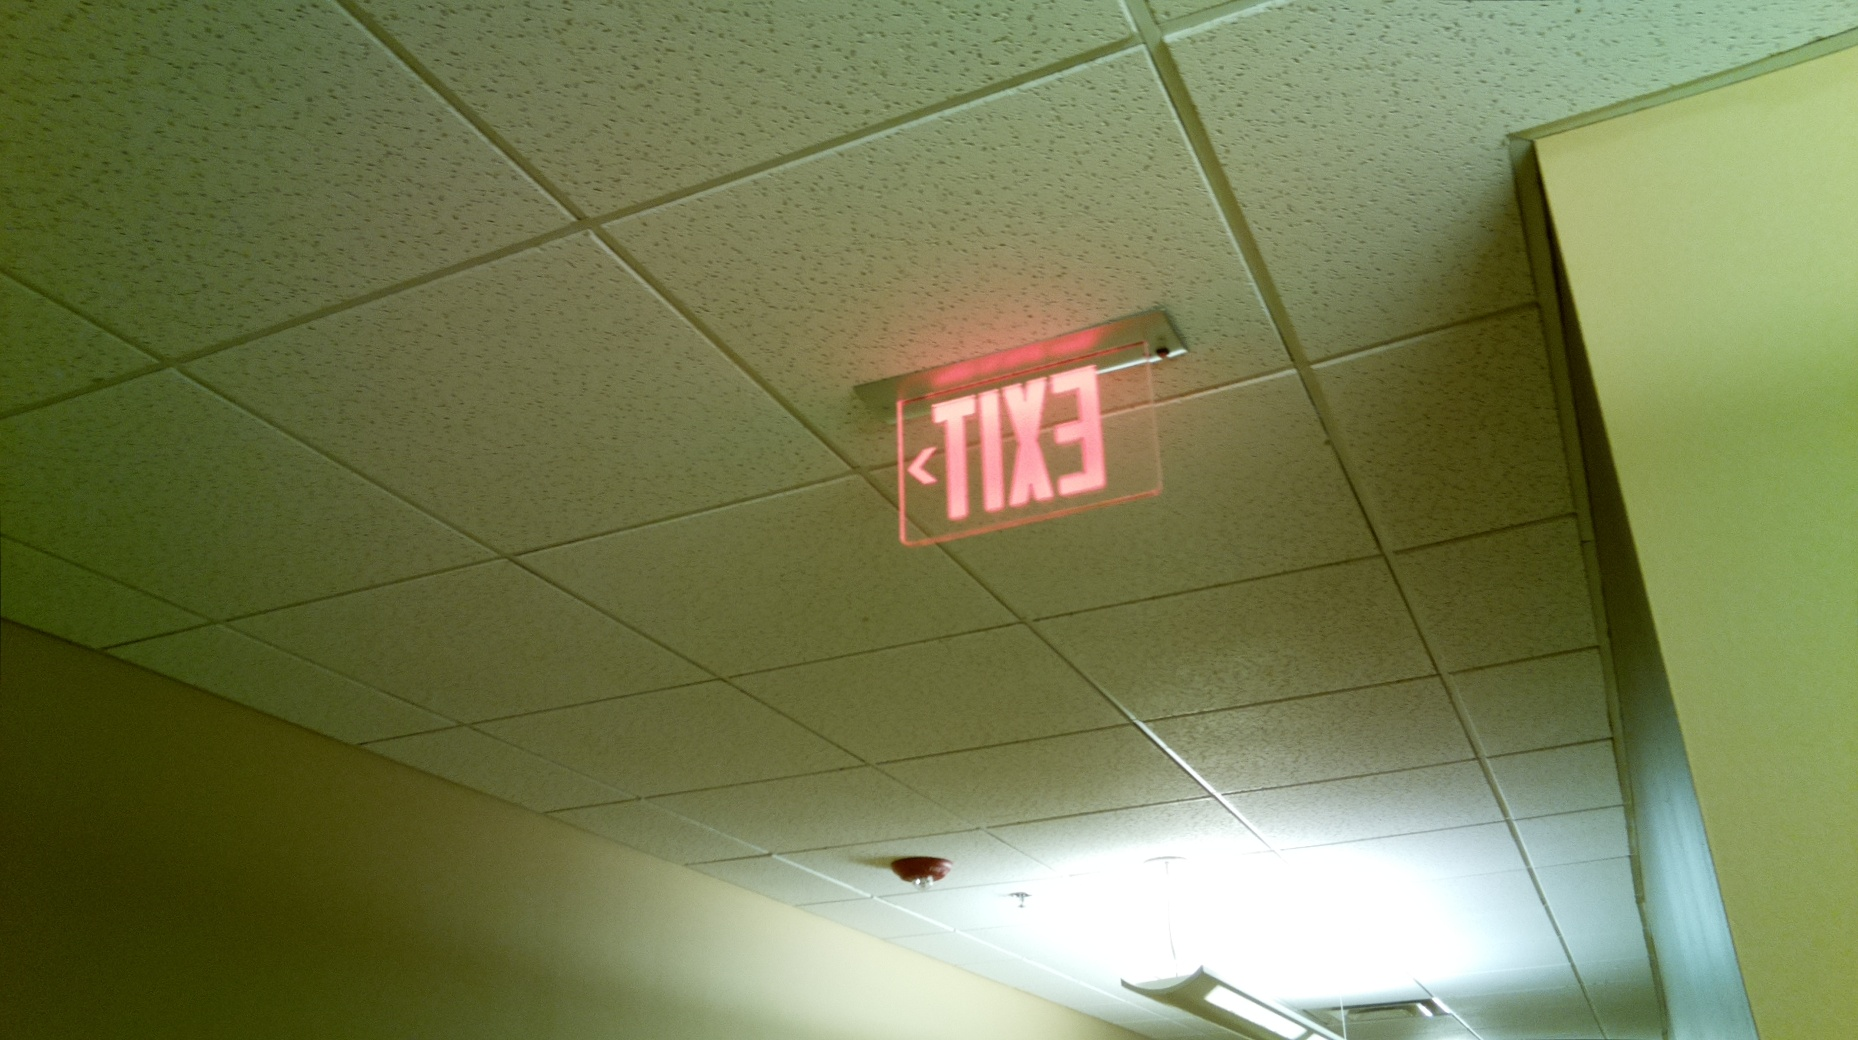exit sign: (884, 341, 1171, 559)
